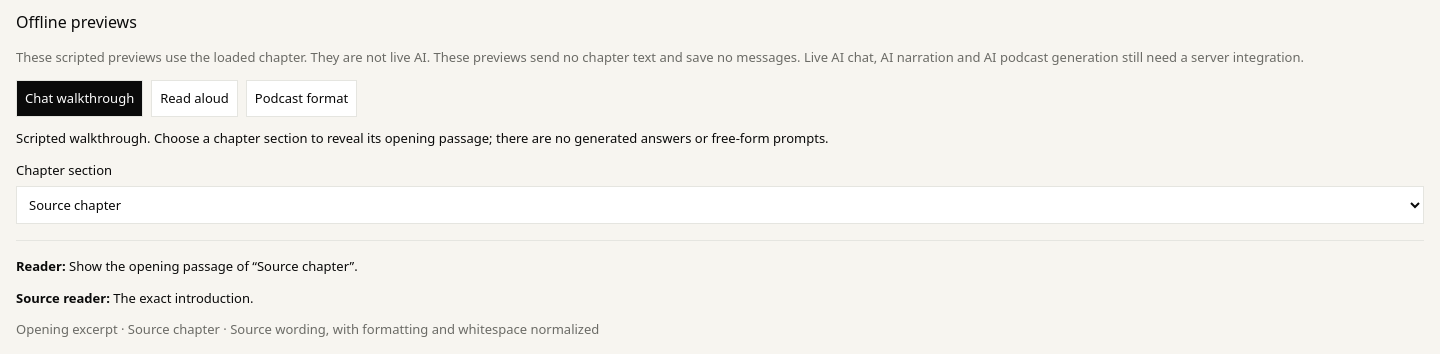
Test: offline chapter previews › labels scripted chat honestly and reveals only selected source openings
The image size is (1440, 354).
Select "Second section" in the dropdown labelled "Chapter section" at point(720, 205), box [16, 186, 1424, 224]
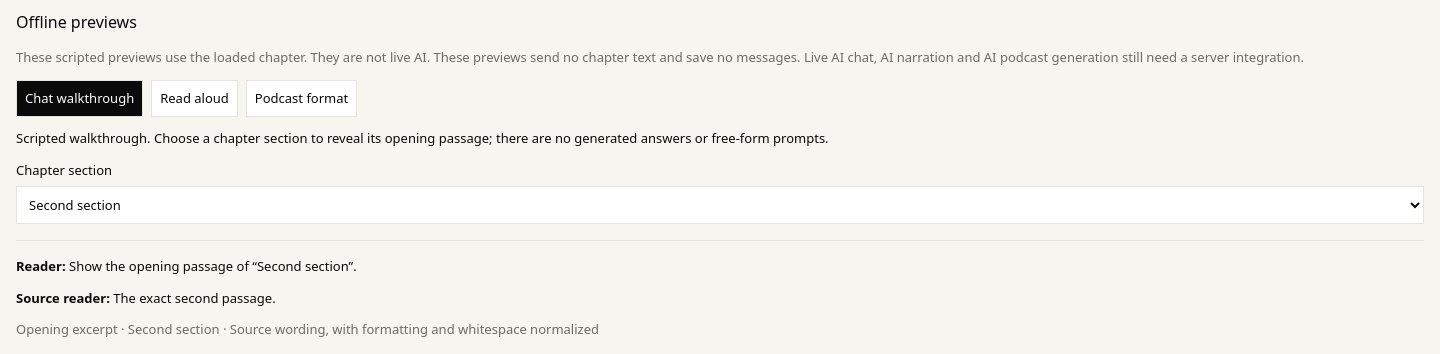
Expected: the element with class "source-excerpt" shows "The exact second passage.", [110, 289, 276, 307]
